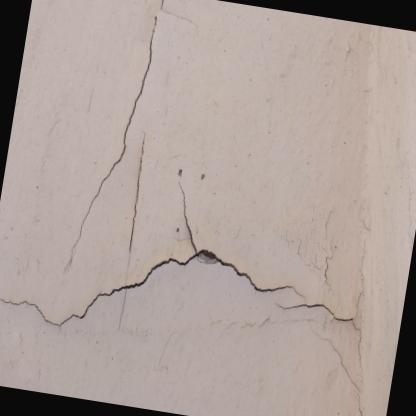crack: (0, 170, 367, 416), (66, 9, 158, 266), (124, 132, 146, 271), (320, 246, 334, 287), (156, 0, 164, 13)
